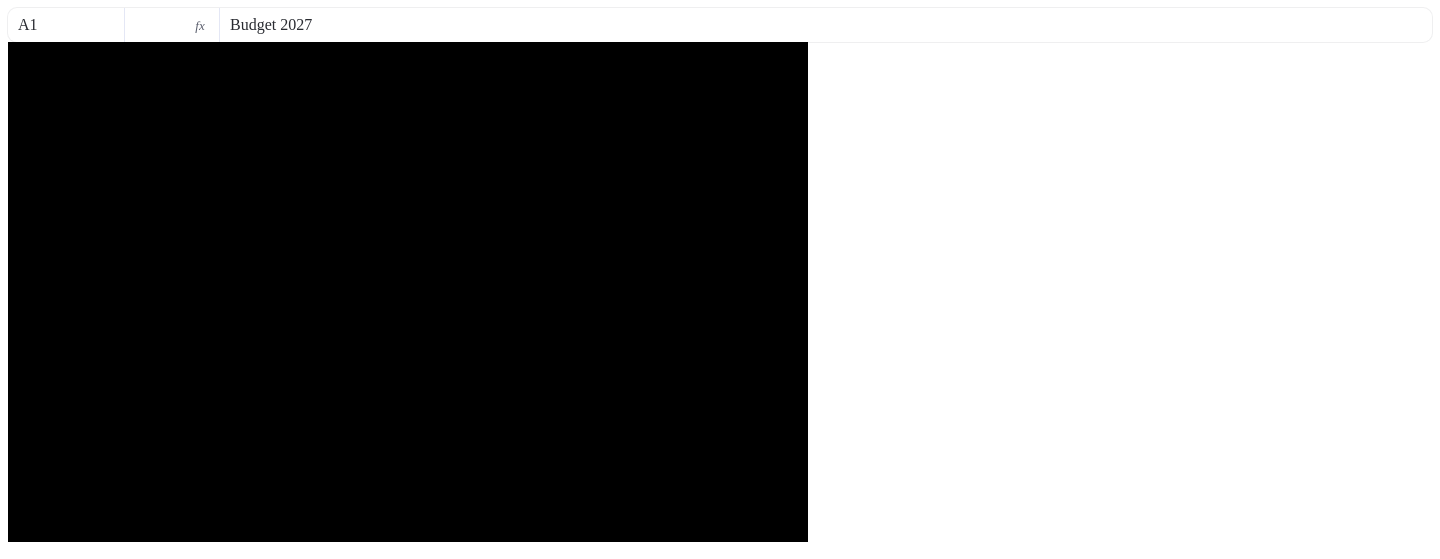
Test: the formula bar › shows the active address and the formula, and the references of the active cell
Press the mouse on the element with class "sg-scroller" at (408, 292), box [8,42,808,542]
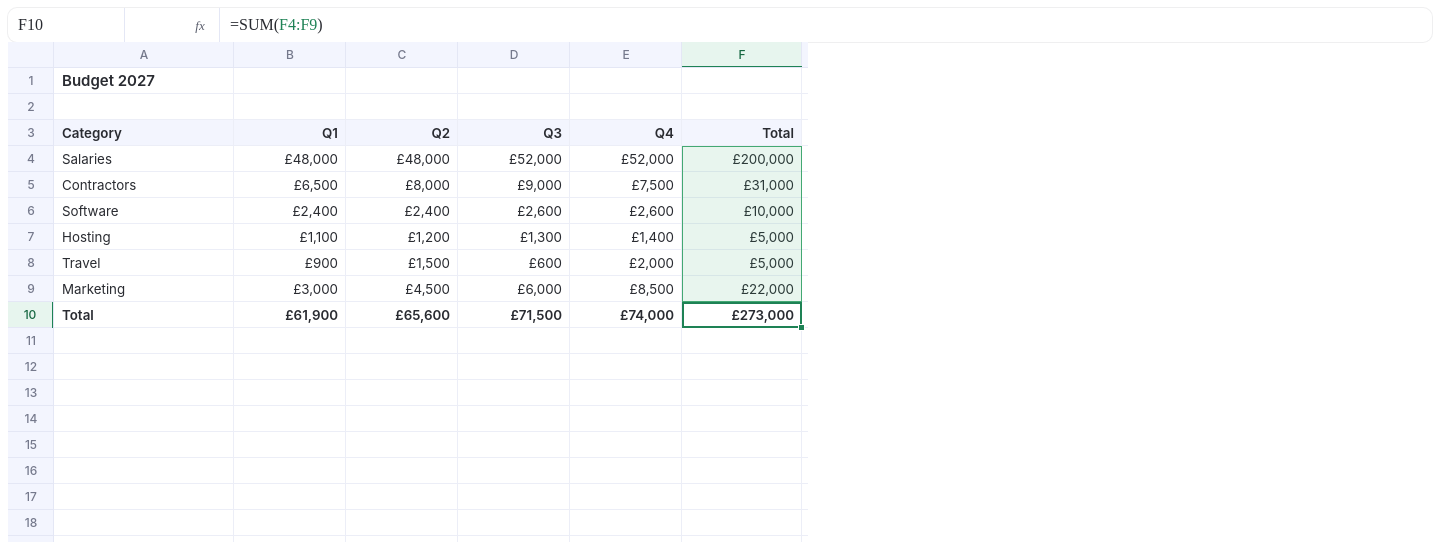
Now the field with class "sg-name" holds "F10", box [8,8,125,42]
Now the text box named "Formula" holds "=SUM(F4:F9)", box [220,8,1432,42]
